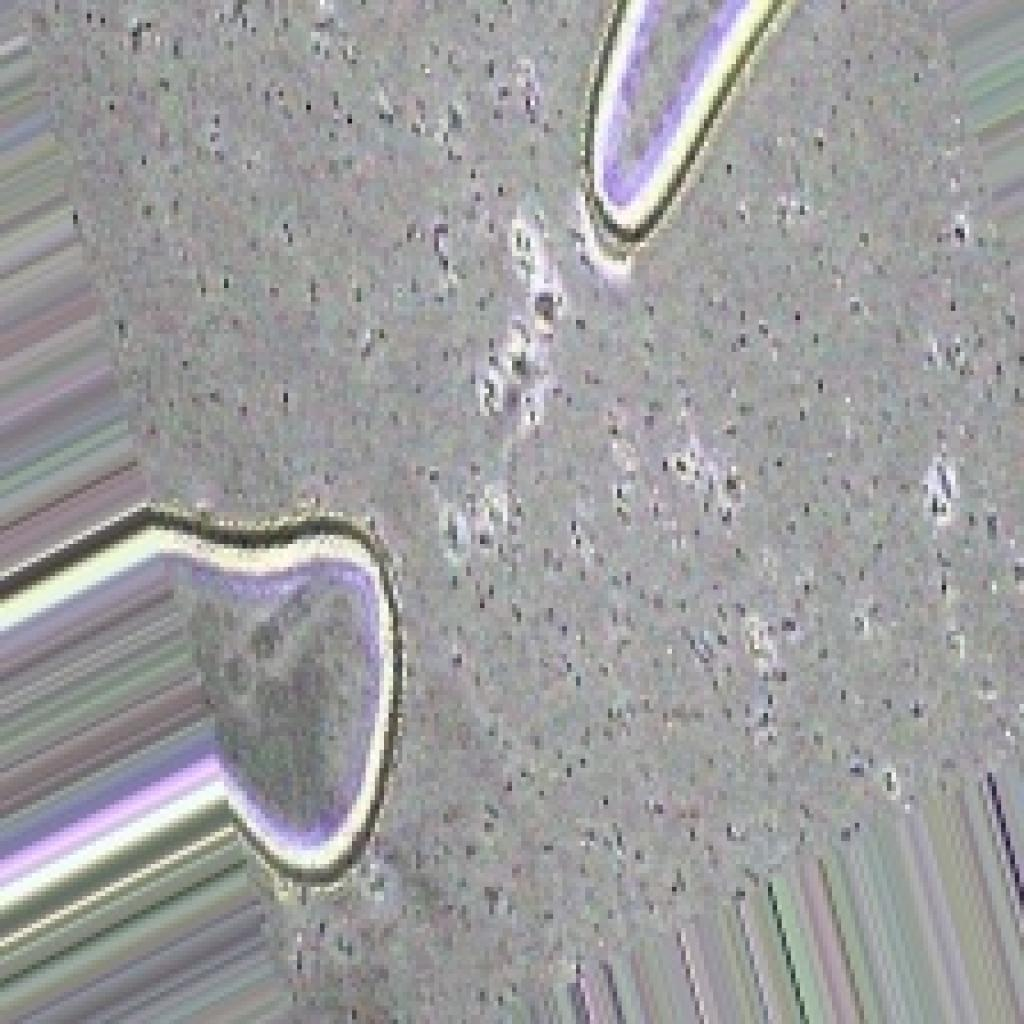Rodbacteria: (0, 498, 402, 1019)
